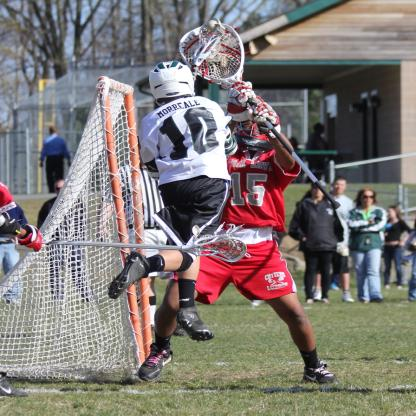Helmet: (235, 108, 286, 156), (146, 60, 194, 106)
